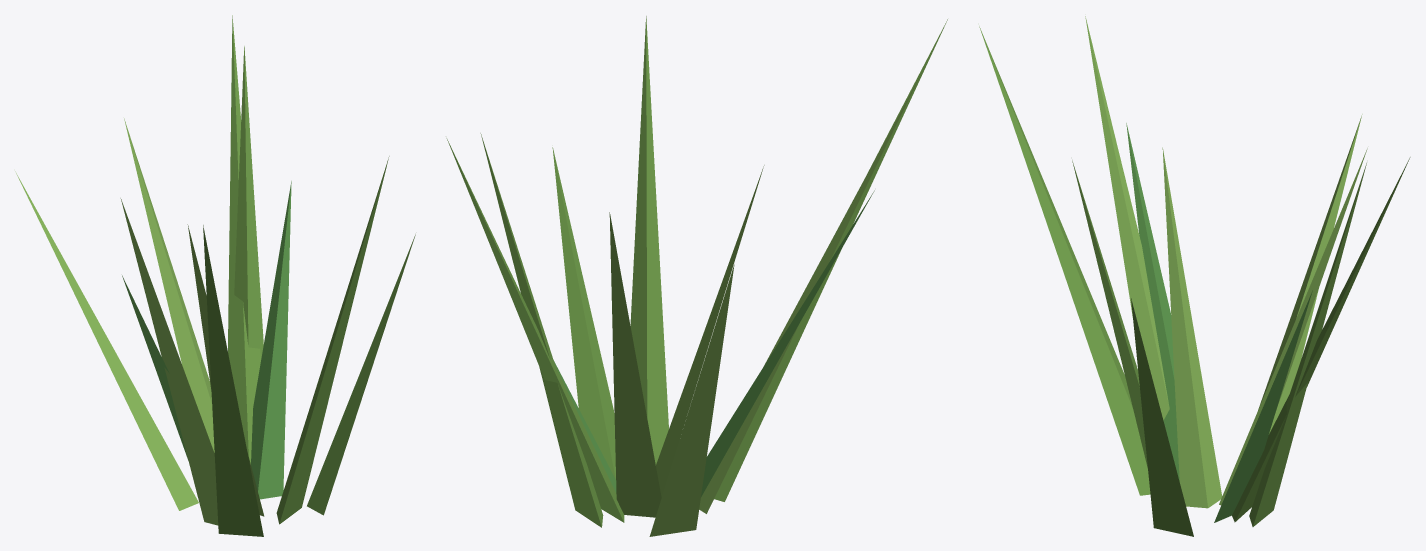
File: SC_Nat_Grass_Tuft.gltf
The picture shows the model from 3 angles, left to right: view 1: azimuth 30°, elevation 25°; view 2: azimuth 150°, elevation 25°; view 3: azimuth 270°, elevation 25°; orthographic projection. The views are drawn at different scales.
Parts seen in each view (by area): view 1: SC_Nat_Grass_Tuft; view 2: SC_Nat_Grass_Tuft; view 3: SC_Nat_Grass_Tuft.
Part boxes in pixels (x1,y1,x2,y2): SC_Nat_Grass_Tuft: (15, 15, 415, 536); SC_Nat_Grass_Tuft: (446, 16, 947, 536); SC_Nat_Grass_Tuft: (979, 16, 1410, 536).
Size of the model in its own units: 0.2093 by 0.255 by 0.2482.
Materials: 1 (1 with a texture image).
